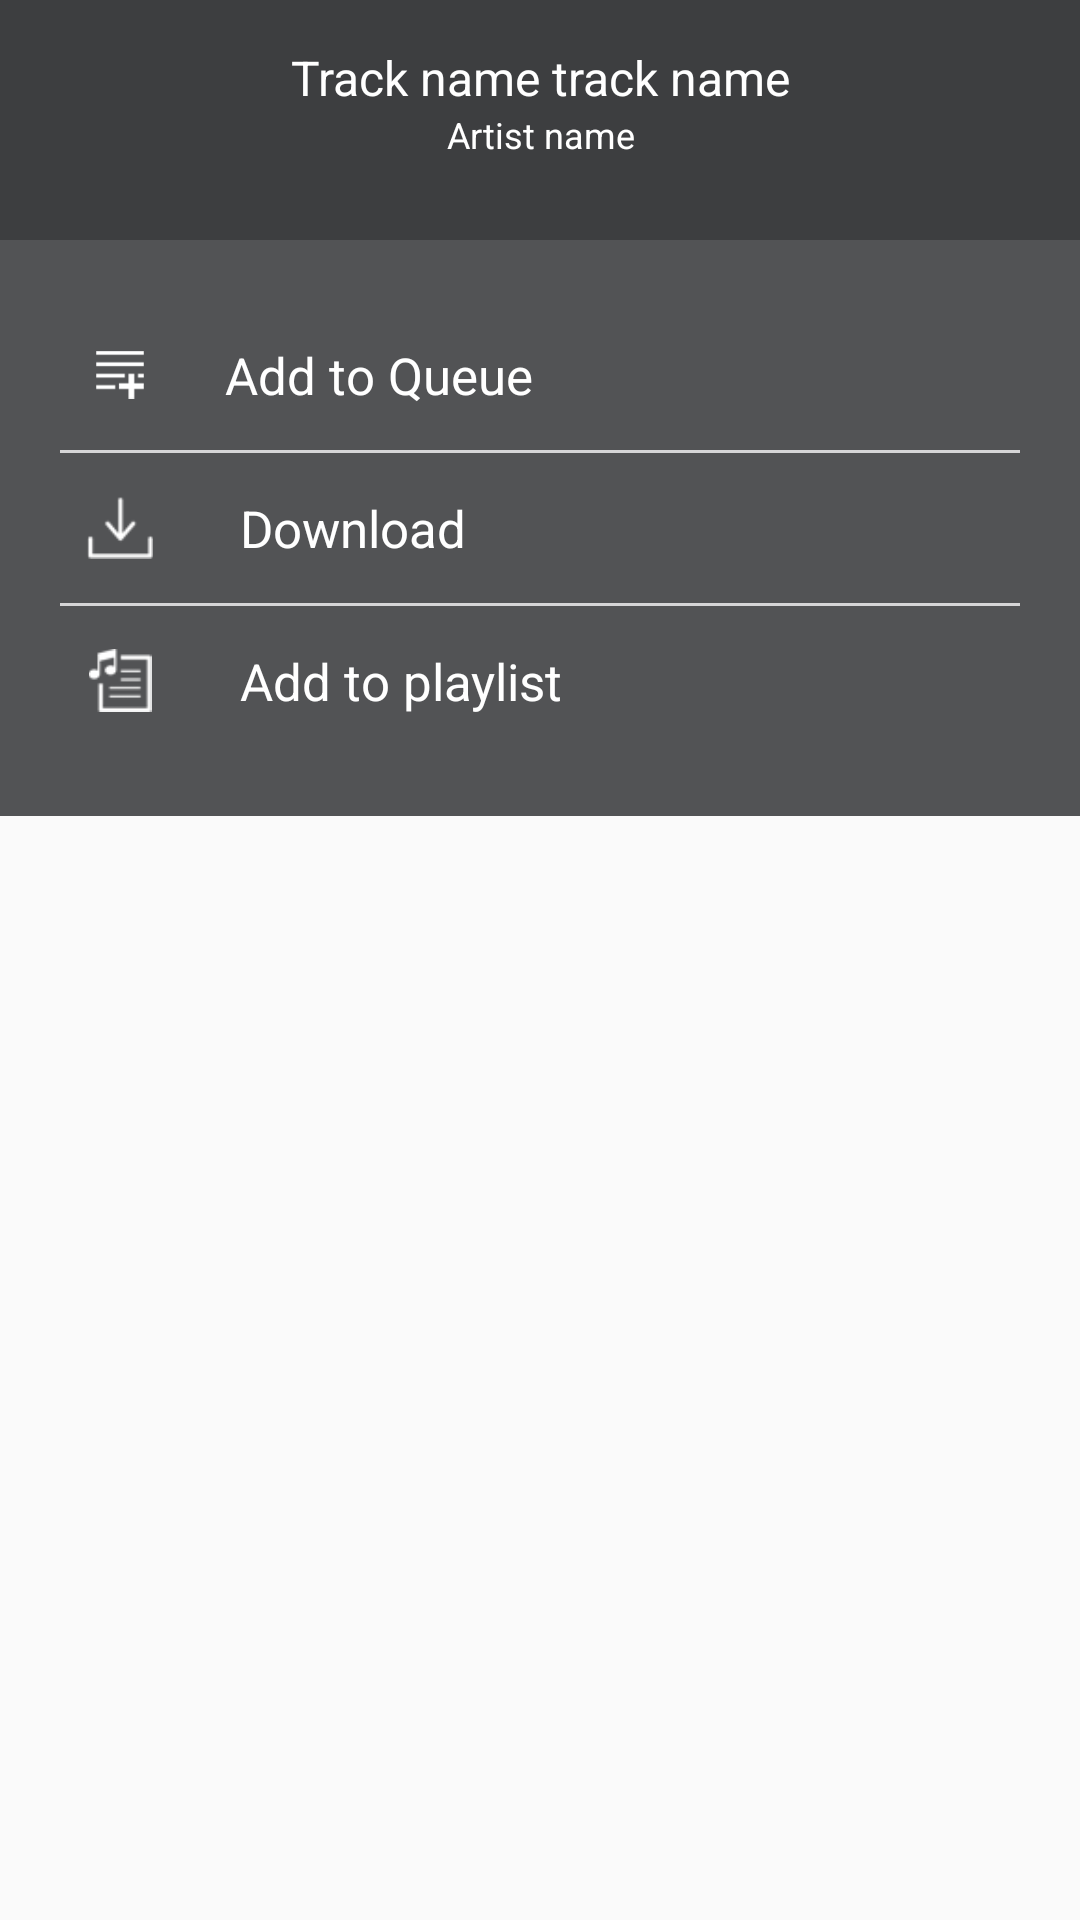

Screen size 1080px×1920px. Icon name, then its box in pixels as bbox=(x1, y1, x2, y2):
downlode: bbox=(88, 497, 153, 559)
